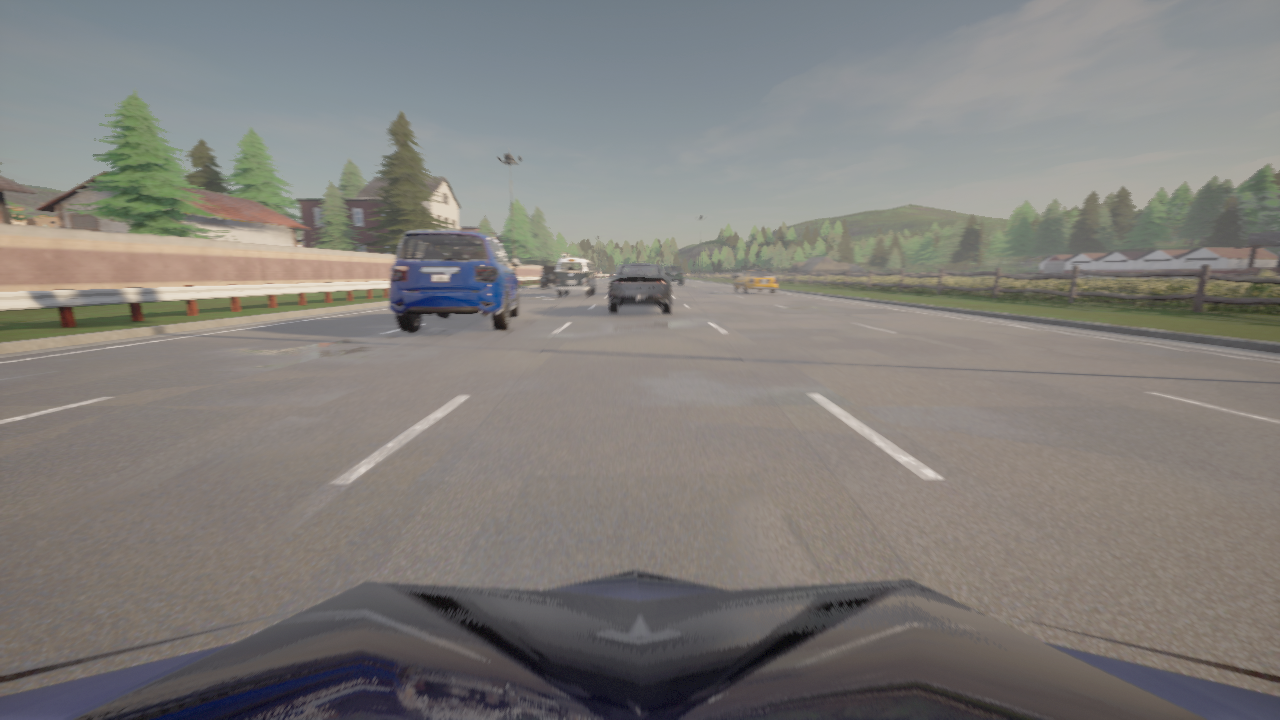cyclist: (0, 569, 1279, 719), (389, 230, 519, 332), (608, 264, 671, 313), (555, 257, 596, 296), (733, 267, 777, 293), (539, 265, 556, 288), (663, 266, 682, 284), (731, 268, 750, 279), (1277, 275, 1279, 277)
